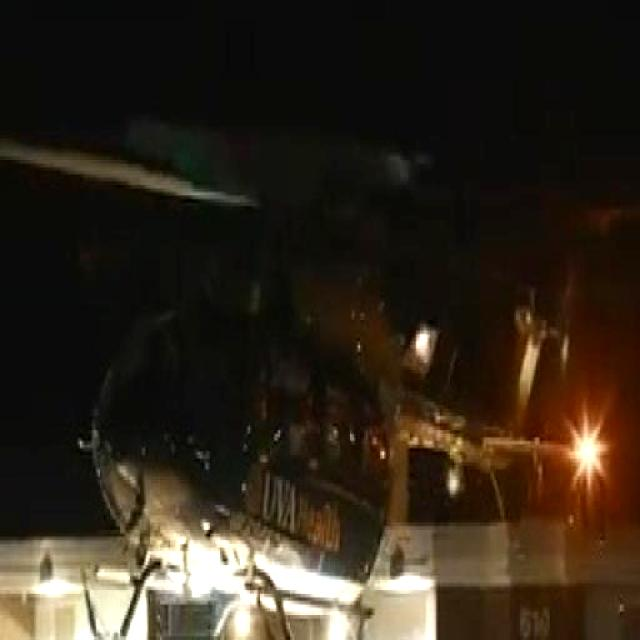drone: (75, 119, 626, 640)
